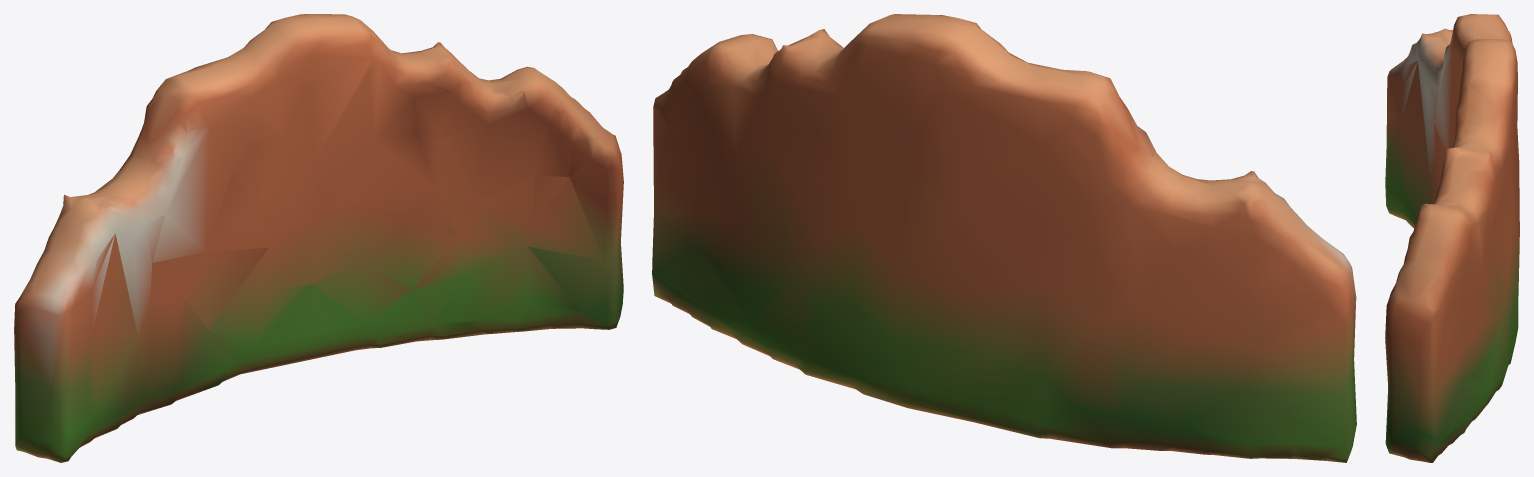
File: canopy_pot_shard_lod1.glb
3 views of the same model, side by side, from view 1: azimuth 30°, elevation 25°; view 2: azimuth 150°, elevation 25°; view 3: azimuth 270°, elevation 25° (orthographic). The views are drawn at different scales.
Parts seen in each view (by area): view 1: canopy_pot_shard.001; view 2: canopy_pot_shard.001; view 3: canopy_pot_shard.001.
Part boxes in pixels (x1=…): canopy_pot_shard.001: x1=14, y1=14, x2=623, y2=462; canopy_pot_shard.001: x1=652, y1=14, x2=1356, y2=462; canopy_pot_shard.001: x1=1385, y1=14, x2=1519, y2=462.
Bounding box in the file's own units: 6.49 × 3.41 × 1.4.
